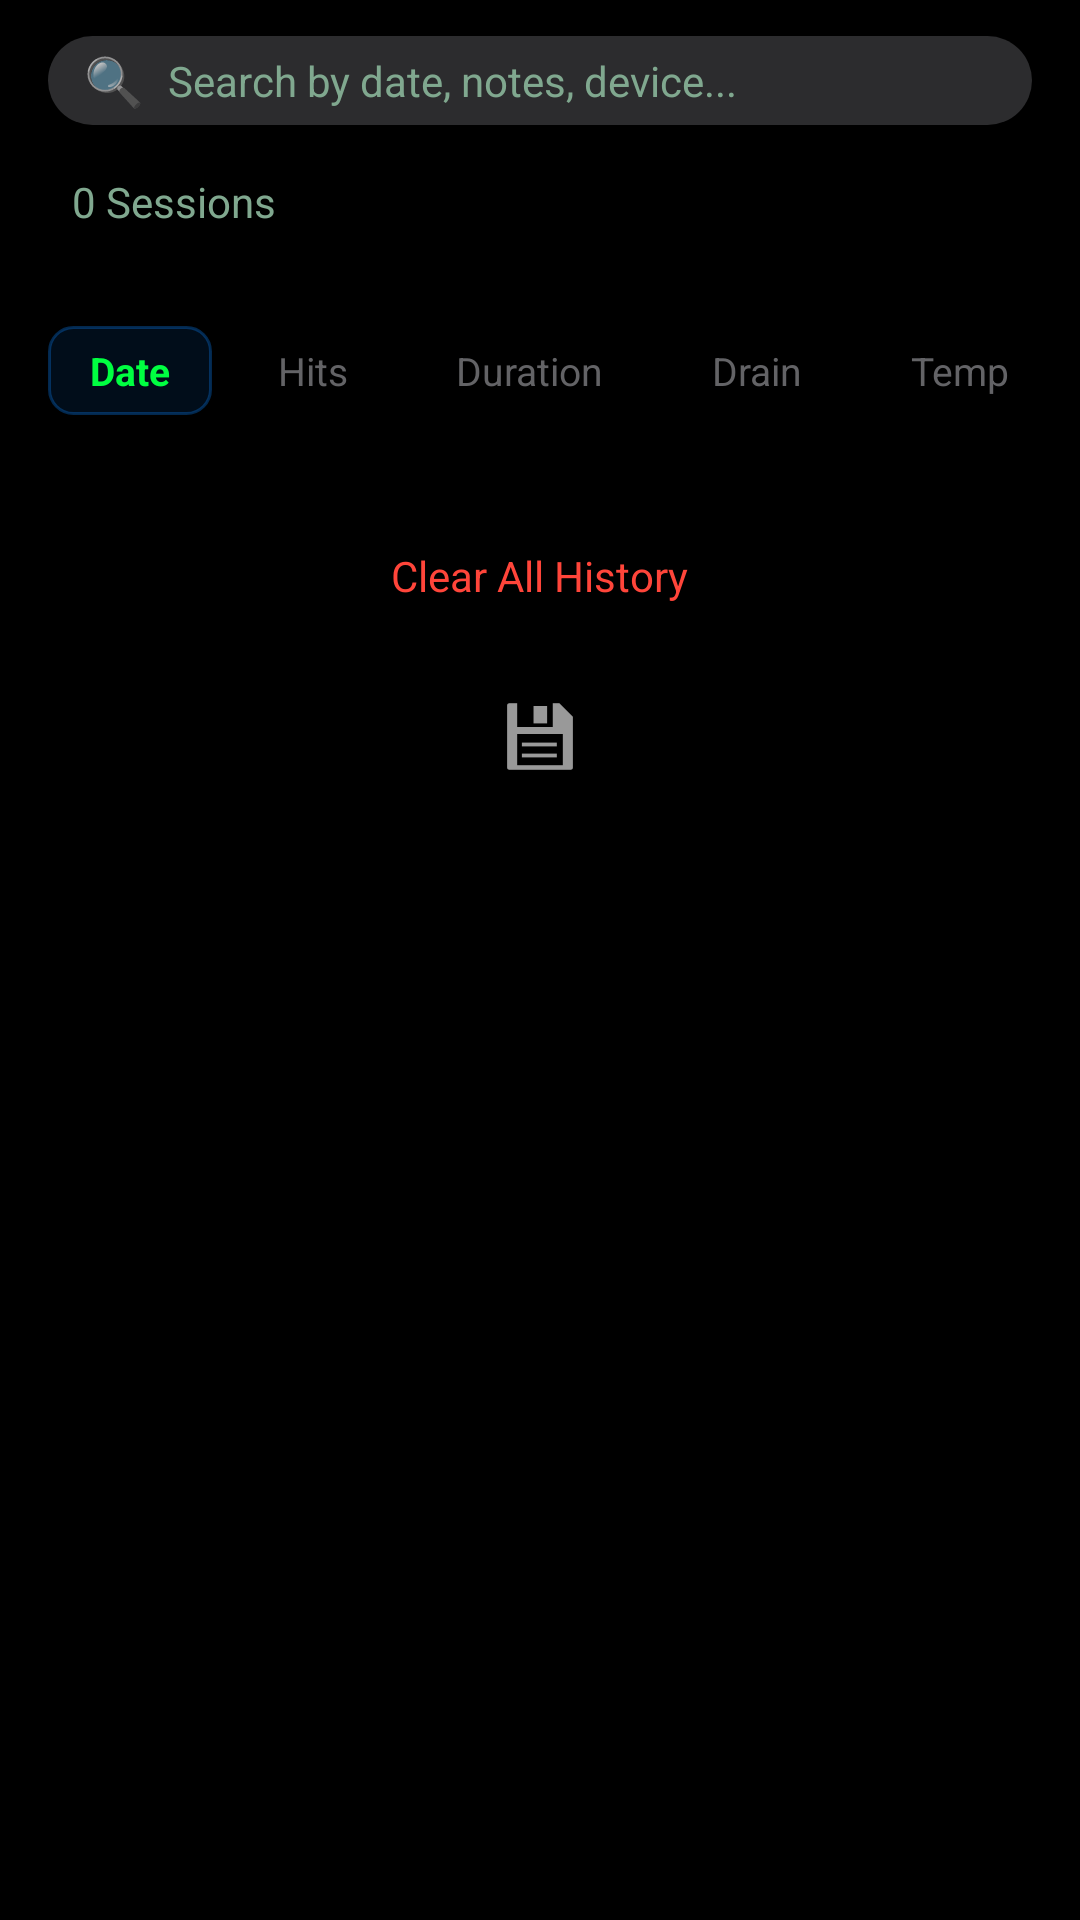

Named icons in this screenshot (1080 × 1920) and their centers, (x=x, y=y):
save: (x=540, y=736)
